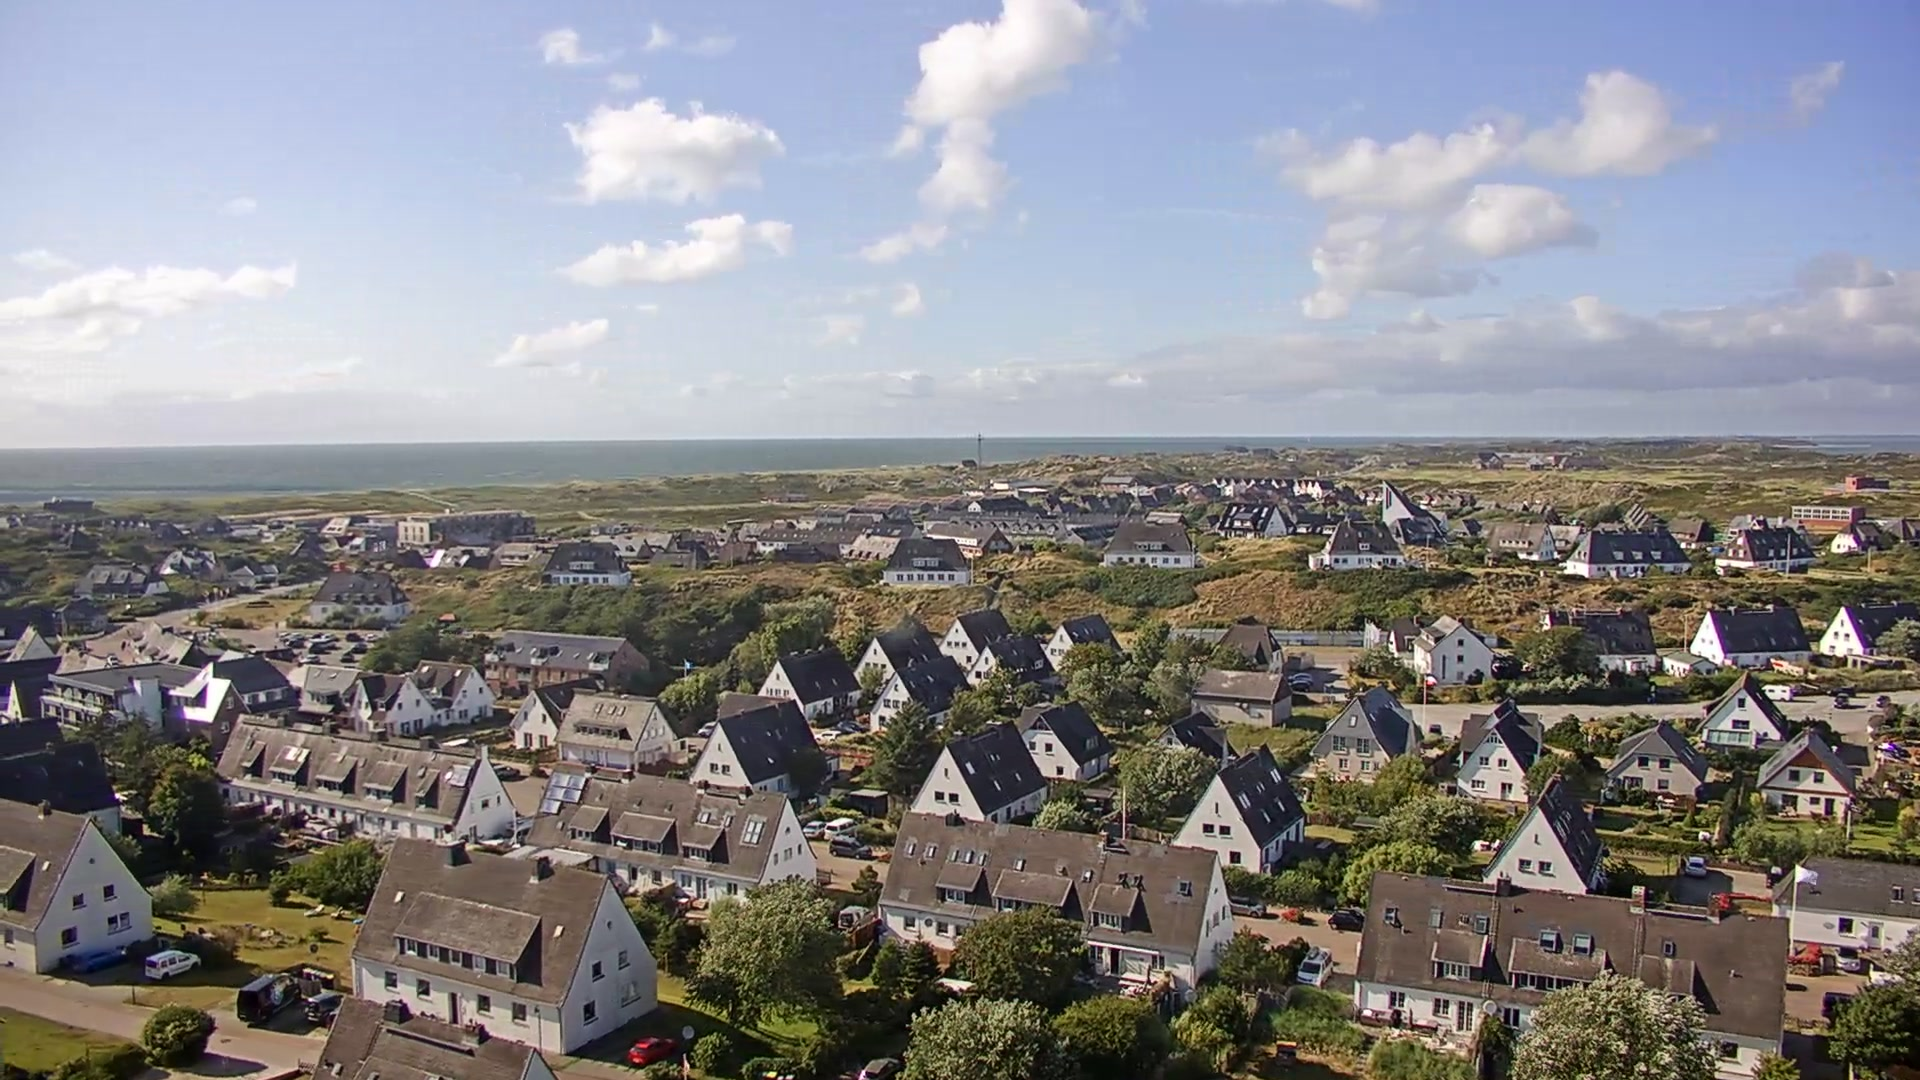human: (275, 621, 279, 628)
land: (235, 970, 301, 1023), (142, 948, 200, 981), (626, 1034, 676, 1069), (70, 944, 127, 975), (1295, 945, 1333, 989), (304, 990, 347, 1024), (1821, 989, 1853, 1025), (829, 836, 871, 859), (1228, 894, 1267, 918), (858, 1056, 899, 1079), (837, 904, 874, 929), (1328, 907, 1365, 931), (1874, 739, 1912, 761), (823, 817, 858, 840), (1832, 945, 1860, 973), (1760, 683, 1792, 702), (801, 819, 827, 839), (835, 719, 867, 734), (492, 764, 520, 780), (1686, 855, 1707, 877), (1826, 684, 1855, 698), (1766, 864, 1782, 888), (696, 720, 716, 737), (304, 633, 336, 643), (1287, 671, 1313, 683), (812, 730, 836, 743), (1289, 680, 1310, 692), (307, 641, 325, 654), (1834, 692, 1848, 709), (300, 654, 320, 664), (1875, 693, 1891, 707), (288, 631, 305, 642), (349, 642, 366, 653), (340, 651, 355, 663), (343, 632, 359, 642), (284, 639, 303, 647), (276, 632, 289, 642), (364, 633, 375, 642)
